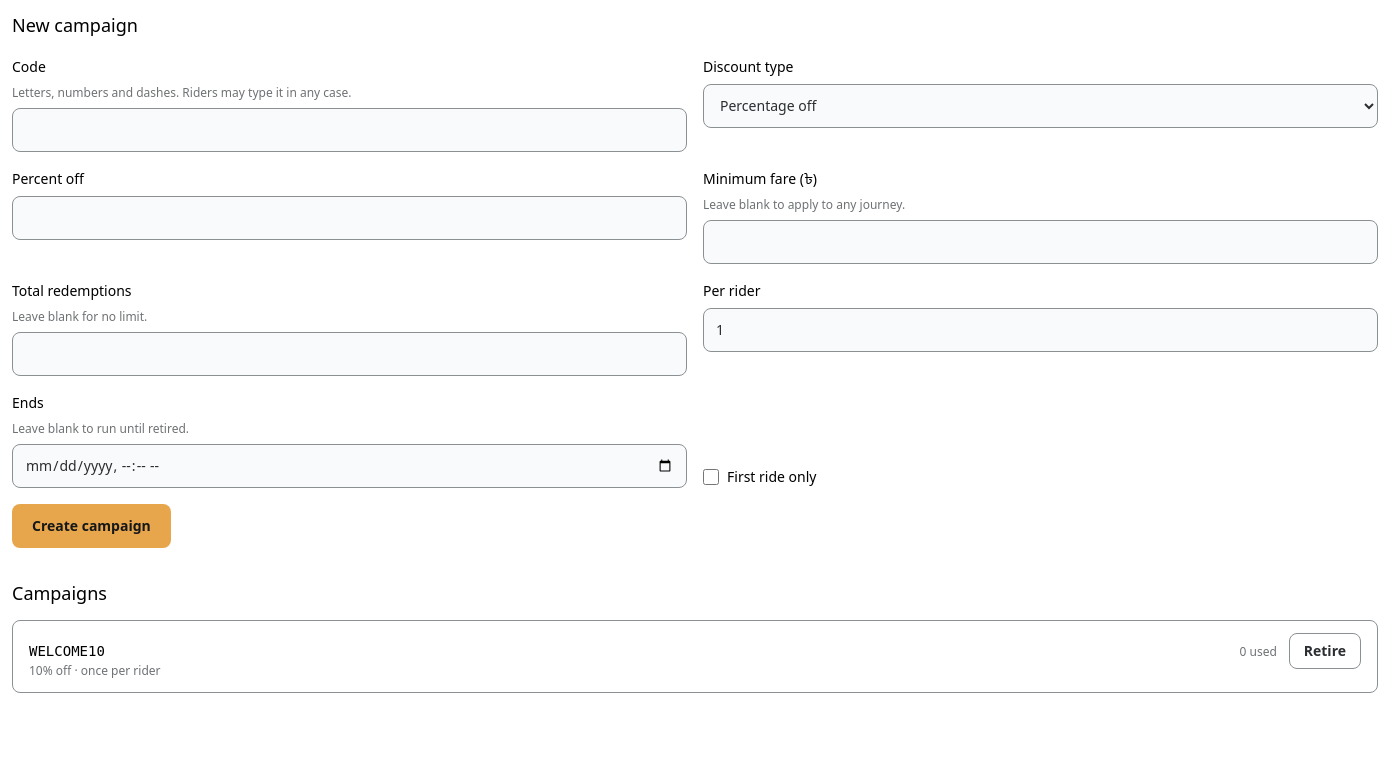
CampaignManager › reports a refused code without clearing what was typed
The image size is (1390, 780).
Type "welcome10" into the field labelled "Code" at (350, 130), box [12,108,687,152]
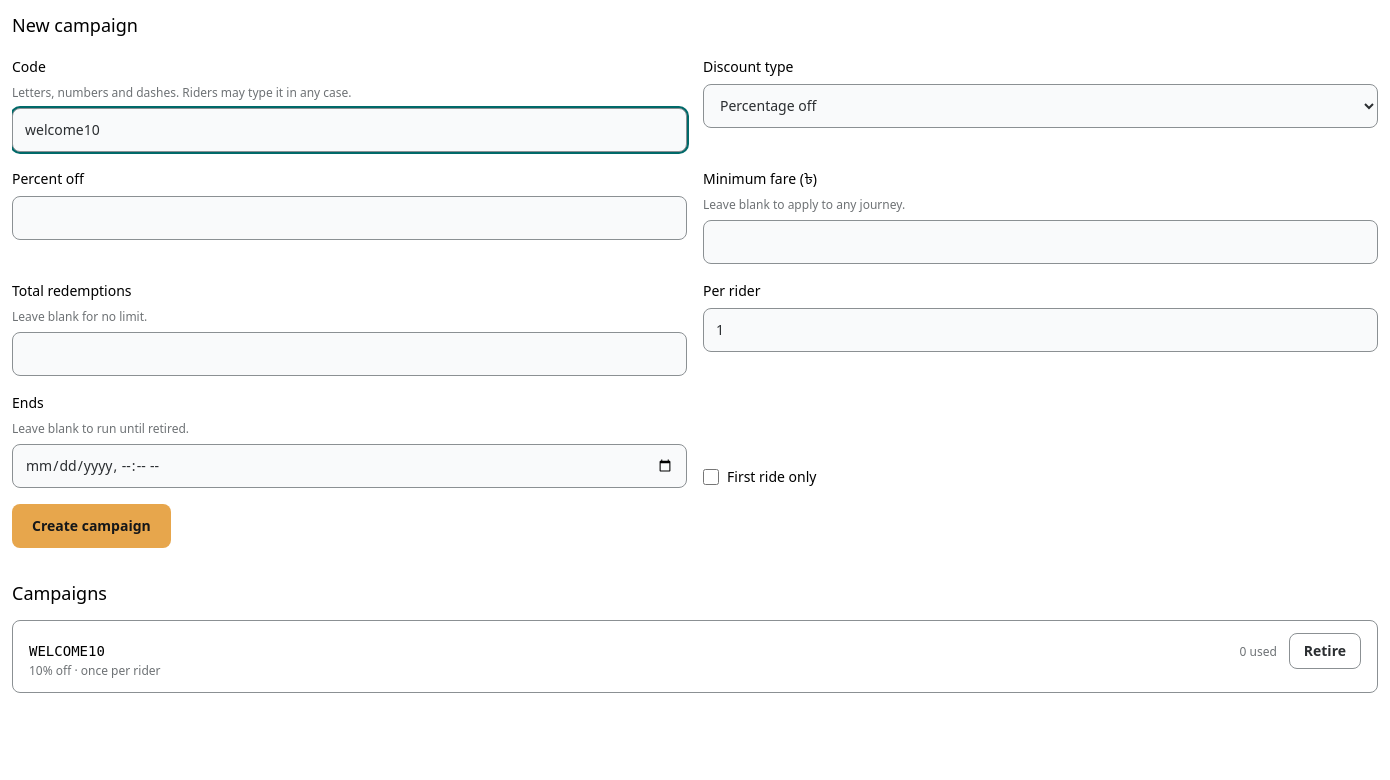
Type "10" into the number field labelled "Percent off" at (350, 218), box [12,196,687,240]
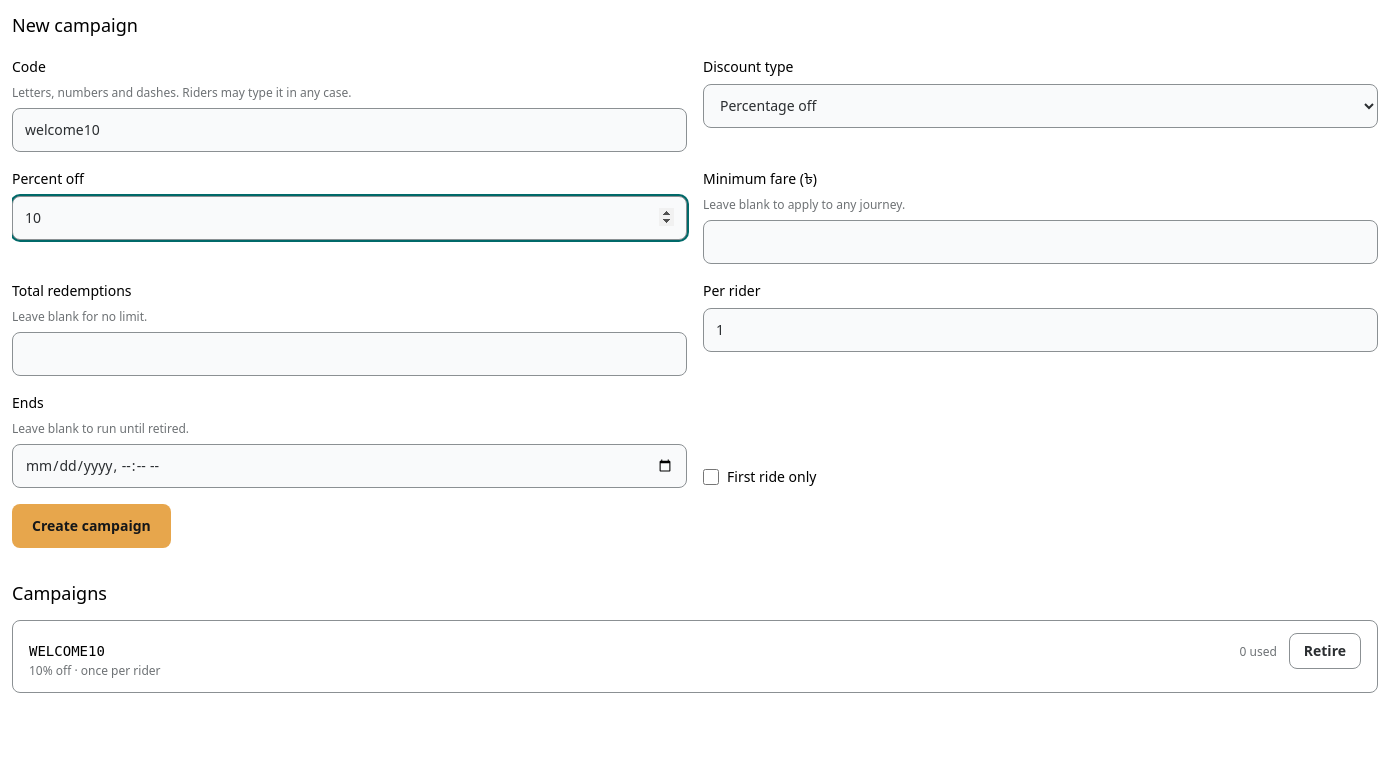
Click the button "Create campaign" at (91, 526), box [12,504,171,548]
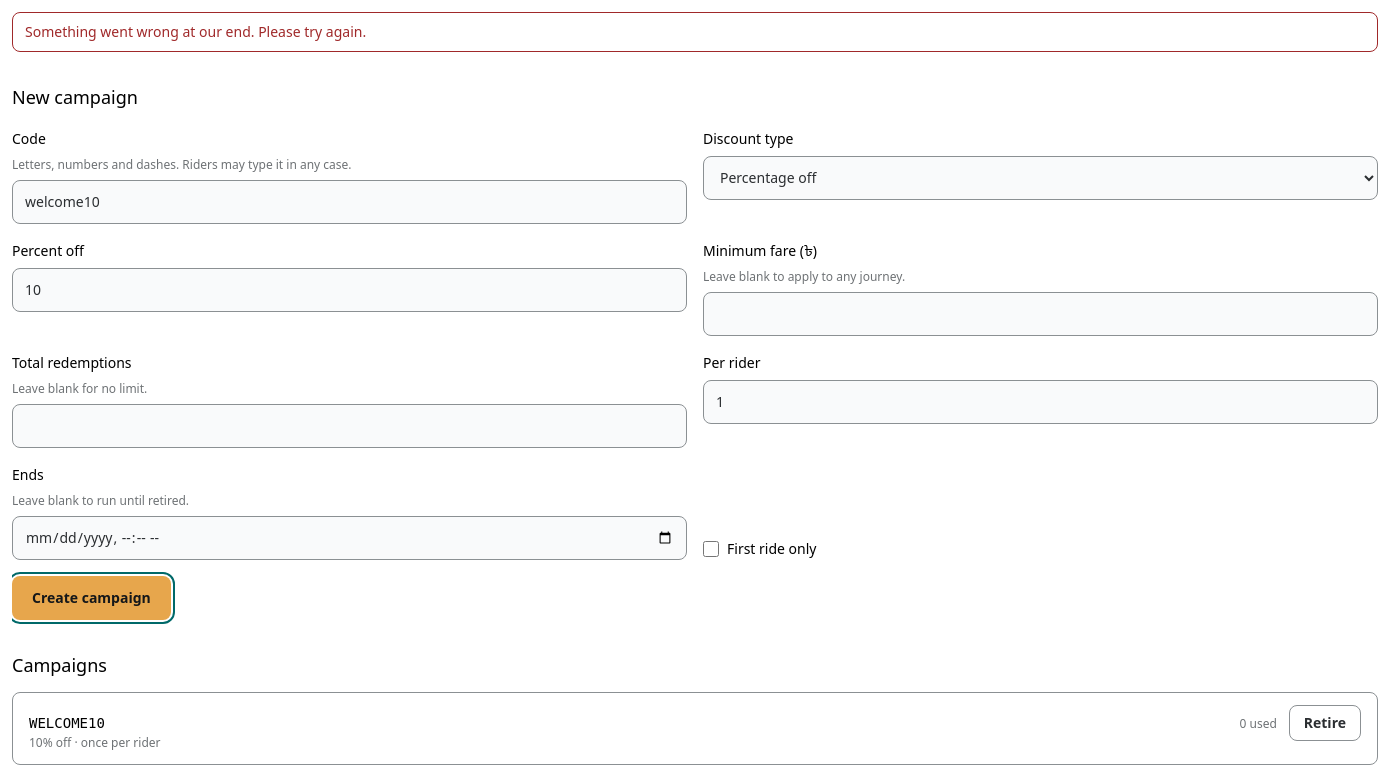
Expected: the message "Something went wrong at our end. Please try again." is shown, [12,12,1378,52]
